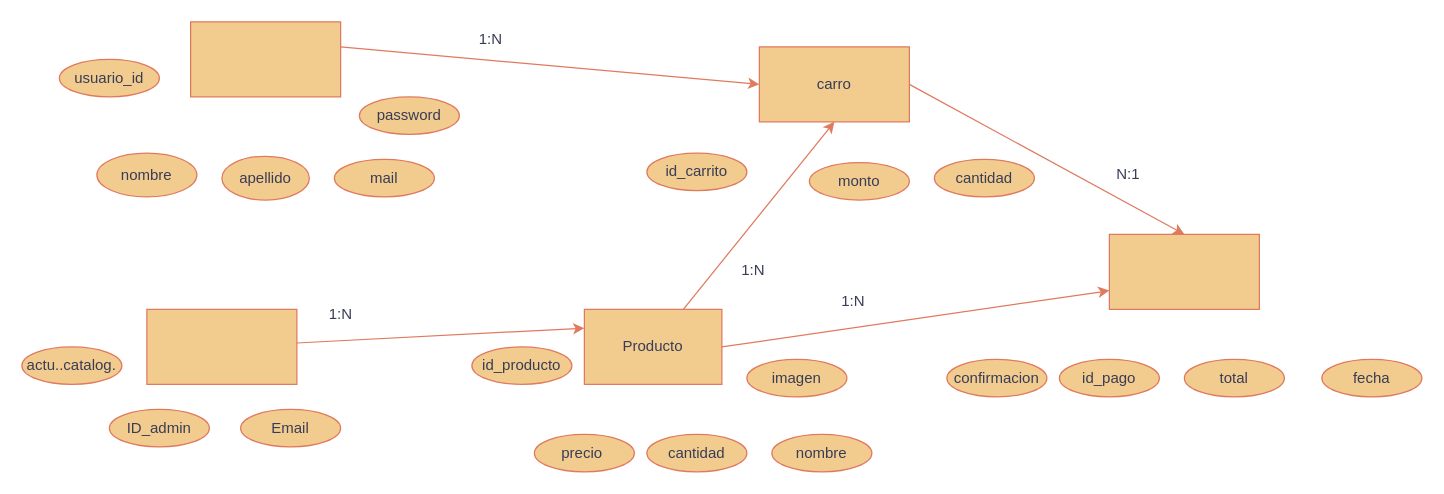
Image size: 1444x494. Some labels were removed from this diagram. The shapes that lost their labels are listed below. From the top down, each one's centre as x and y in pixels, then its label:
At pixel 265 59: "Usuario".
At pixel 1183 271: "Pago".
At pixel 221 346: "Administracion".
